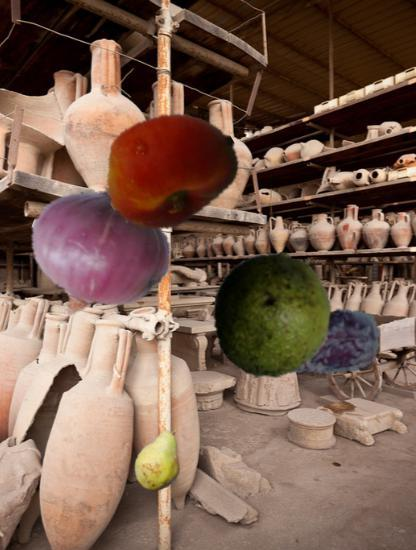Avocado: (207, 251, 336, 380)
Dates: (260, 283, 381, 404)
Nectarine: (100, 99, 238, 237)
Onion: (27, 180, 171, 324)
Pear: (128, 427, 195, 494)
